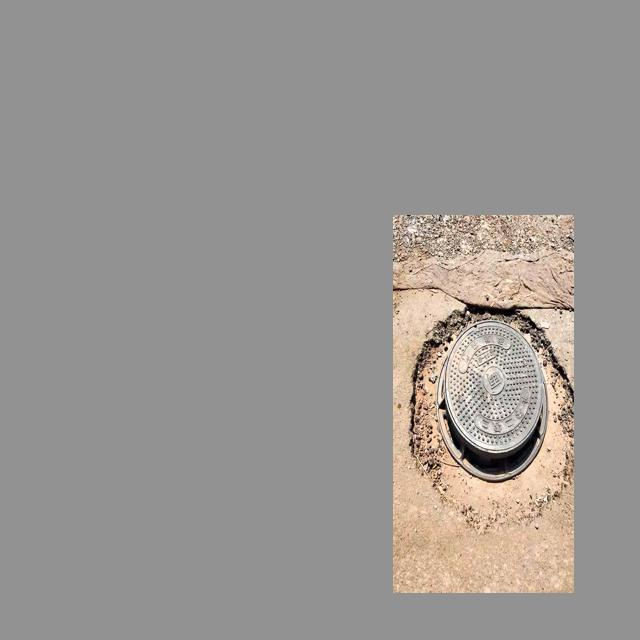circle: (412, 306, 571, 528)
